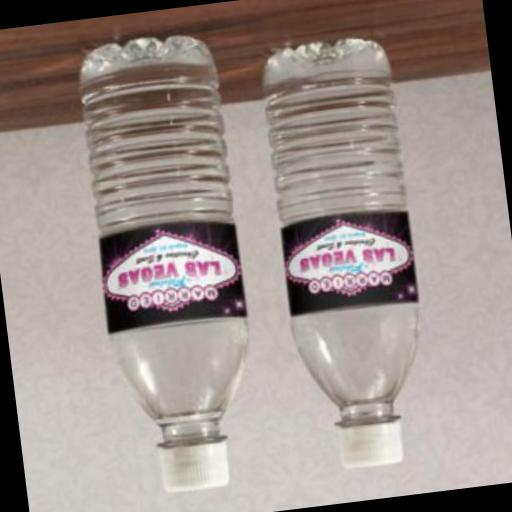Coca: (63, 21, 280, 512), (244, 26, 446, 490)
